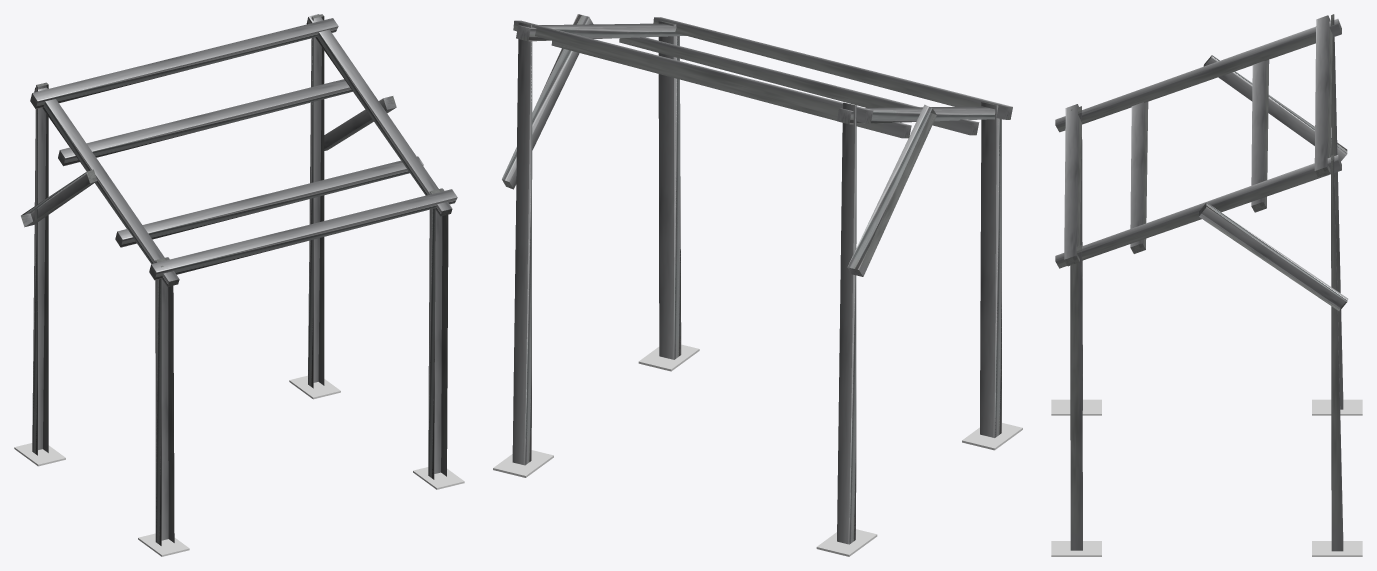
Rendered from six panel  with 4 legs structure.fbx.
The picture shows the model from 3 angles, left to right: view 1: azimuth 30°, elevation 25°; view 2: azimuth 150°, elevation 25°; view 3: azimuth 270°, elevation 25°; orthographic projection. The views are drawn at different scales.
Visible parts, largest first — view 1: Cube.027, Cube.005, Cube.018, Cube.001, Cube.009, Cube.015, Cube.006, Cube.004, Cube.003, Cube.002, Cube.007, Cube.008 (+4 smaller); view 2: Cube.015, Cube.005, Cube.018, Cube.027, Cube.009, Cube.001, Cube.006, Cube.007, Cube.004, Cube.008, Cube.003, Cube.002 (+4 smaller); view 3: Cube.002, Cube.003, Cube.027, Cube.015, Cube.008, Cube.009, Cube.001, Cube.006, Cube.004, Cube.007, Cube.005, Cube.010 (+4 smaller).
Part boxes in pixels (left/top/right/bottom): Cube.027: left=428, top=188, right=448, bottom=479; Cube.005: left=32, top=82, right=48, bottom=455; Cube.018: left=155, top=257, right=174, bottom=545; Cube.001: left=149, top=189, right=457, bottom=280; Cube.009: left=30, top=18, right=338, bottom=108; Cube.015: left=308, top=14, right=324, bottom=388; Cube.006: left=115, top=156, right=423, bottom=247; Cube.004: left=58, top=79, right=352, bottom=166; Cube.003: left=306, top=14, right=452, bottom=216; Cube.002: left=34, top=87, right=179, bottom=286; Cube.007: left=21, top=169, right=97, bottom=227; Cube.008: left=324, top=96, right=396, bottom=150; Cube.015: left=512, top=22, right=532, bottom=465; Cube.005: left=837, top=102, right=856, bottom=544; Cube.018: left=980, top=102, right=1001, bottom=437; Cube.027: left=658, top=20, right=681, bottom=359; Cube.009: left=513, top=20, right=873, bottom=123; Cube.001: left=653, top=17, right=1012, bottom=119; Cube.006: left=619, top=37, right=979, bottom=135; Cube.007: left=847, top=104, right=936, bottom=276; Cube.004: left=551, top=40, right=911, bottom=138; Cube.008: left=502, top=14, right=593, bottom=189; Cube.003: left=516, top=23, right=686, bottom=41; Cube.002: left=837, top=106, right=995, bottom=124; Cube.002: left=1055, top=19, right=1341, bottom=132; Cube.003: left=1055, top=155, right=1341, bottom=268; Cube.027: left=1070, top=245, right=1082, bottom=550; Cube.015: left=1331, top=154, right=1343, bottom=551; Cube.008: left=1199, top=202, right=1348, bottom=311; Cube.009: left=1314, top=15, right=1332, bottom=177; Cube.001: left=1064, top=104, right=1081, bottom=266; Cube.006: left=1130, top=102, right=1148, bottom=253; Cube.004: left=1251, top=60, right=1269, bottom=212; Cube.007: left=1203, top=55, right=1347, bottom=161; Cube.005: left=1331, top=14, right=1343, bottom=409; Cube.010: left=1051, top=541, right=1101, bottom=556.
Size of the model in its own units: 258 by 301 by 216.
